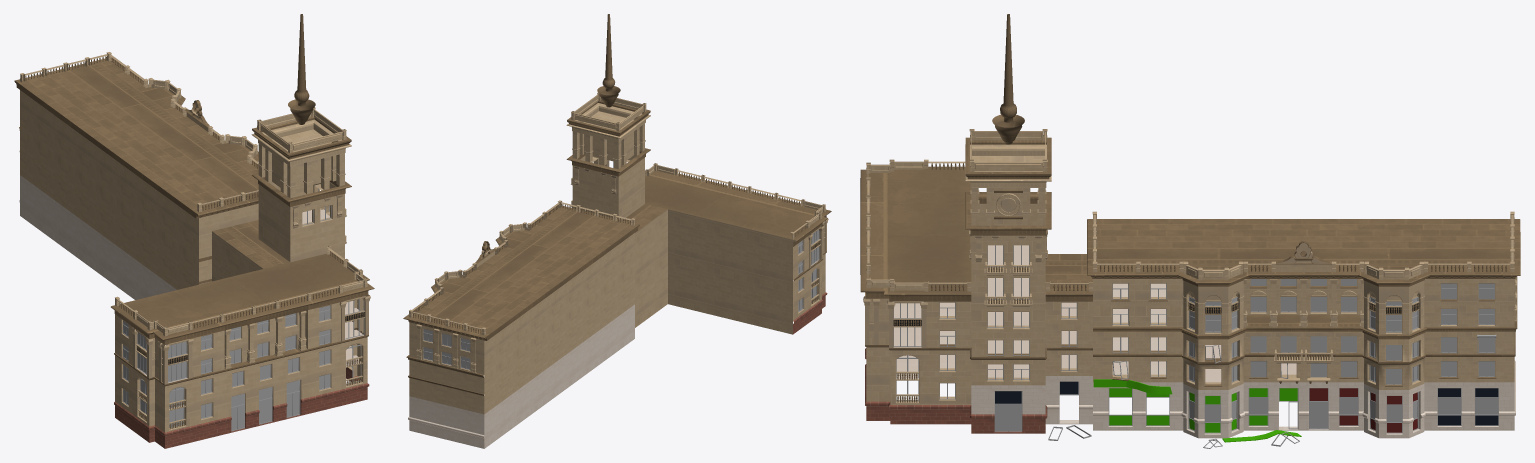
The model's file is Twins Texture test 2.fbx.
3 renders of one model, left to right at view 1: azimuth 30°, elevation 25°; view 2: azimuth 150°, elevation 25°; view 3: azimuth 270°, elevation 25°, orthographic. The views are drawn at different scales.
Parts seen in each view (by area): view 1: polySurface6540, polySurface7485, polySurface6654, polySurface6772, polySurface7486, polySurface7070, polySurface6595, polySurface6429, polySurface7707, polySurface7646, polySurface7302, polySurface7683 (+11 smaller); view 2: polySurface6772, polySurface7485, polySurface6540, polySurface7486, polySurface6429, polySurface7070, polySurface6595, polySurface7707, polySurface7302, polySurface7646, polySurface7683, polySurface6809 (+4 smaller); view 3: polySurface7485, polySurface6540, polySurface6772, polySurface7486, polySurface7070, pCube245, polySurface6743, polySurface6463, polySurface7707, polySurface6654, polySurface7302, polySurface7683 (+16 smaller).
Boxes of the visible parts, x1,y1,x2,y2 form: polySurface6540: (14, 58, 258, 218); polySurface7485: (19, 90, 258, 289); polySurface6654: (154, 295, 369, 448); polySurface6772: (111, 252, 374, 373); polySurface7486: (19, 175, 176, 299); polySurface7070: (258, 181, 344, 262); polySurface6595: (114, 314, 154, 442); polySurface6429: (212, 220, 289, 281); polySurface7707: (20, 52, 367, 336); polySurface7646: (25, 56, 364, 429); polySurface7302: (251, 119, 351, 166); polySurface7683: (25, 54, 364, 423); polySurface6772: (645, 171, 831, 334); polySurface7485: (406, 233, 634, 414); polySurface6540: (403, 206, 639, 340); polySurface7486: (408, 304, 634, 448); polySurface6429: (623, 203, 667, 327); polySurface7070: (572, 155, 644, 220); polySurface6595: (793, 226, 823, 334); polySurface7707: (409, 163, 825, 335); polySurface7302: (566, 103, 650, 142); polySurface7646: (412, 172, 819, 333); polySurface7683: (411, 170, 824, 329); polySurface6809: (566, 148, 650, 176); polySurface7485: (1093, 276, 1517, 389); polySurface6540: (1087, 219, 1520, 286); polySurface6772: (860, 166, 971, 301); polySurface7486: (1093, 360, 1515, 438); polySurface7070: (970, 204, 1047, 433); pCube245: (893, 245, 1296, 382); polySurface6743: (888, 301, 971, 424); polySurface6463: (1045, 301, 1092, 424); polySurface7707: (866, 159, 1514, 360); polySurface6654: (865, 298, 892, 420); polySurface7302: (965, 144, 1051, 187); polySurface7683: (867, 161, 1513, 396).
Size of the model in its own units: 11.87 by 14.78 by 21.92.
9 materials, 4 textured.
